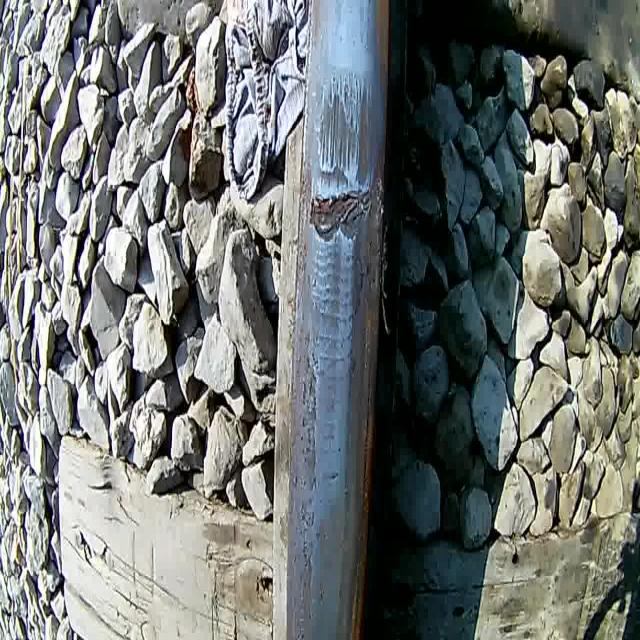Spallings: (304, 185, 381, 248)
Squats: (308, 224, 369, 455), (310, 72, 386, 190)
